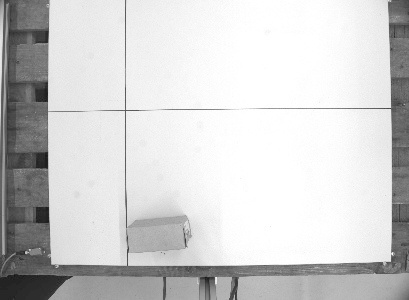b6: (123, 211, 192, 255)
